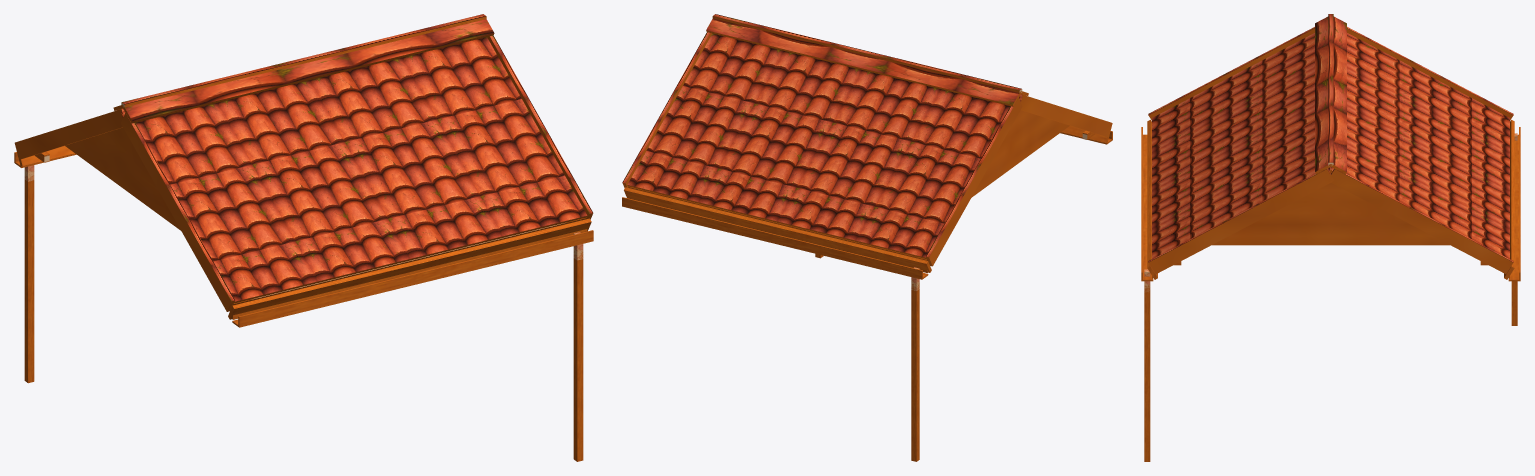
The model's file is Roof_Gable_4x4.fbx.
The picture shows the model from 3 angles, left to right: view 1: azimuth 30°, elevation 25°; view 2: azimuth 150°, elevation 25°; view 3: azimuth 270°, elevation 25°; orthographic projection. The views are drawn at different scales.
Parts seen in each view (by area): view 1: Roof_Gable_4x4; view 2: Roof_Gable_4x4; view 3: Roof_Gable_4x4.
Boxes of the visible parts, box(x1,y1,x2,y2) form: Roof_Gable_4x4: box(14, 14, 593, 461); Roof_Gable_4x4: box(622, 14, 1112, 461); Roof_Gable_4x4: box(1141, 14, 1520, 461).
Bounding box in the file's own units: 4.7 × 4.48 × 5.06.
